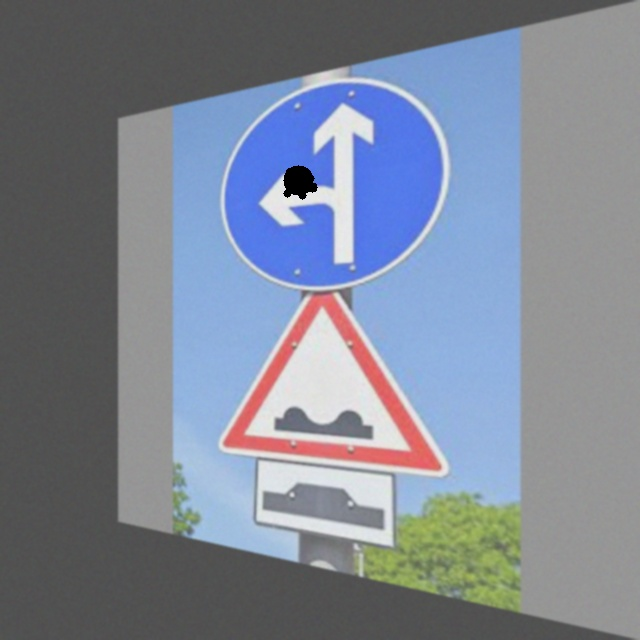Compulsory_Ahead_or_Turn_Left: (215, 56, 463, 293)
